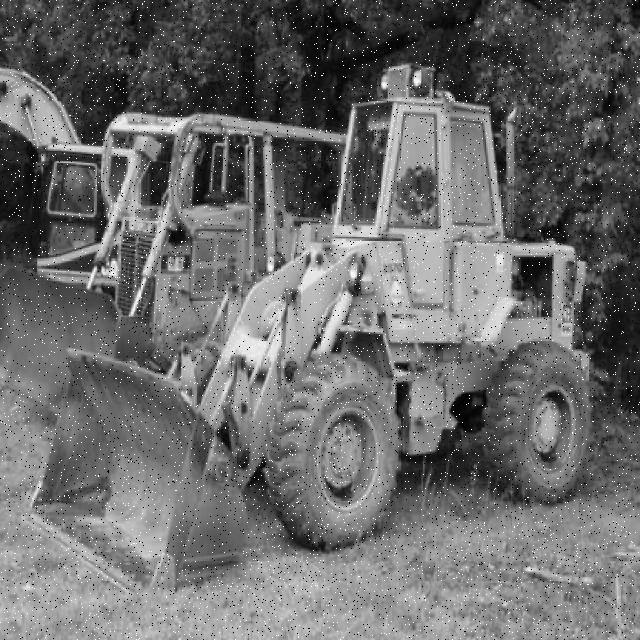Construction Equipment: (21, 64, 593, 600), (0, 111, 345, 429)
